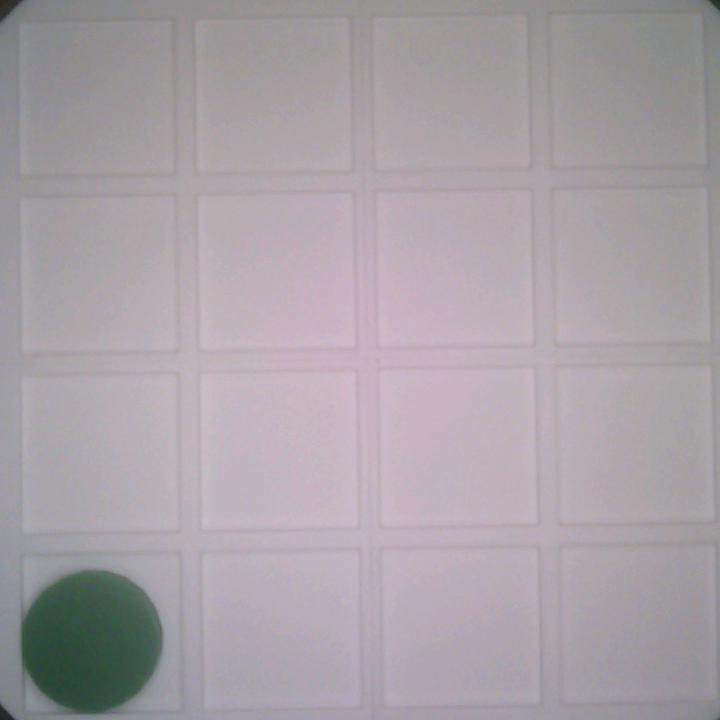Green circle: (18, 570, 161, 713)
